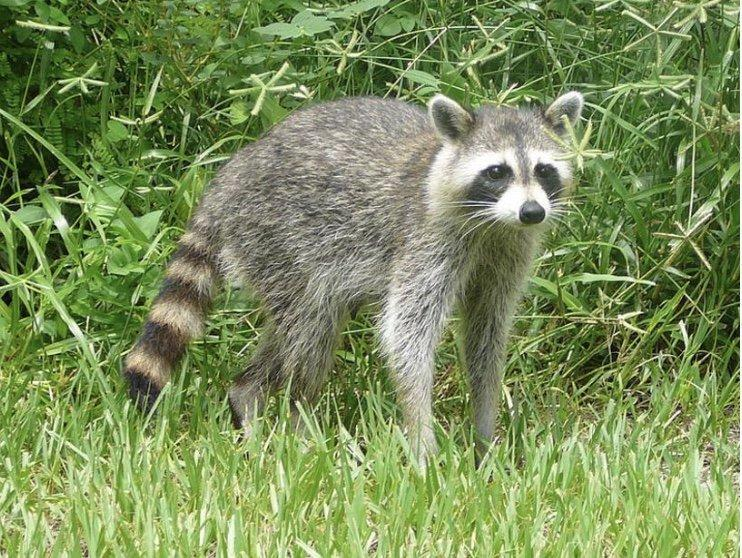raccoon: (125, 89, 588, 476)
